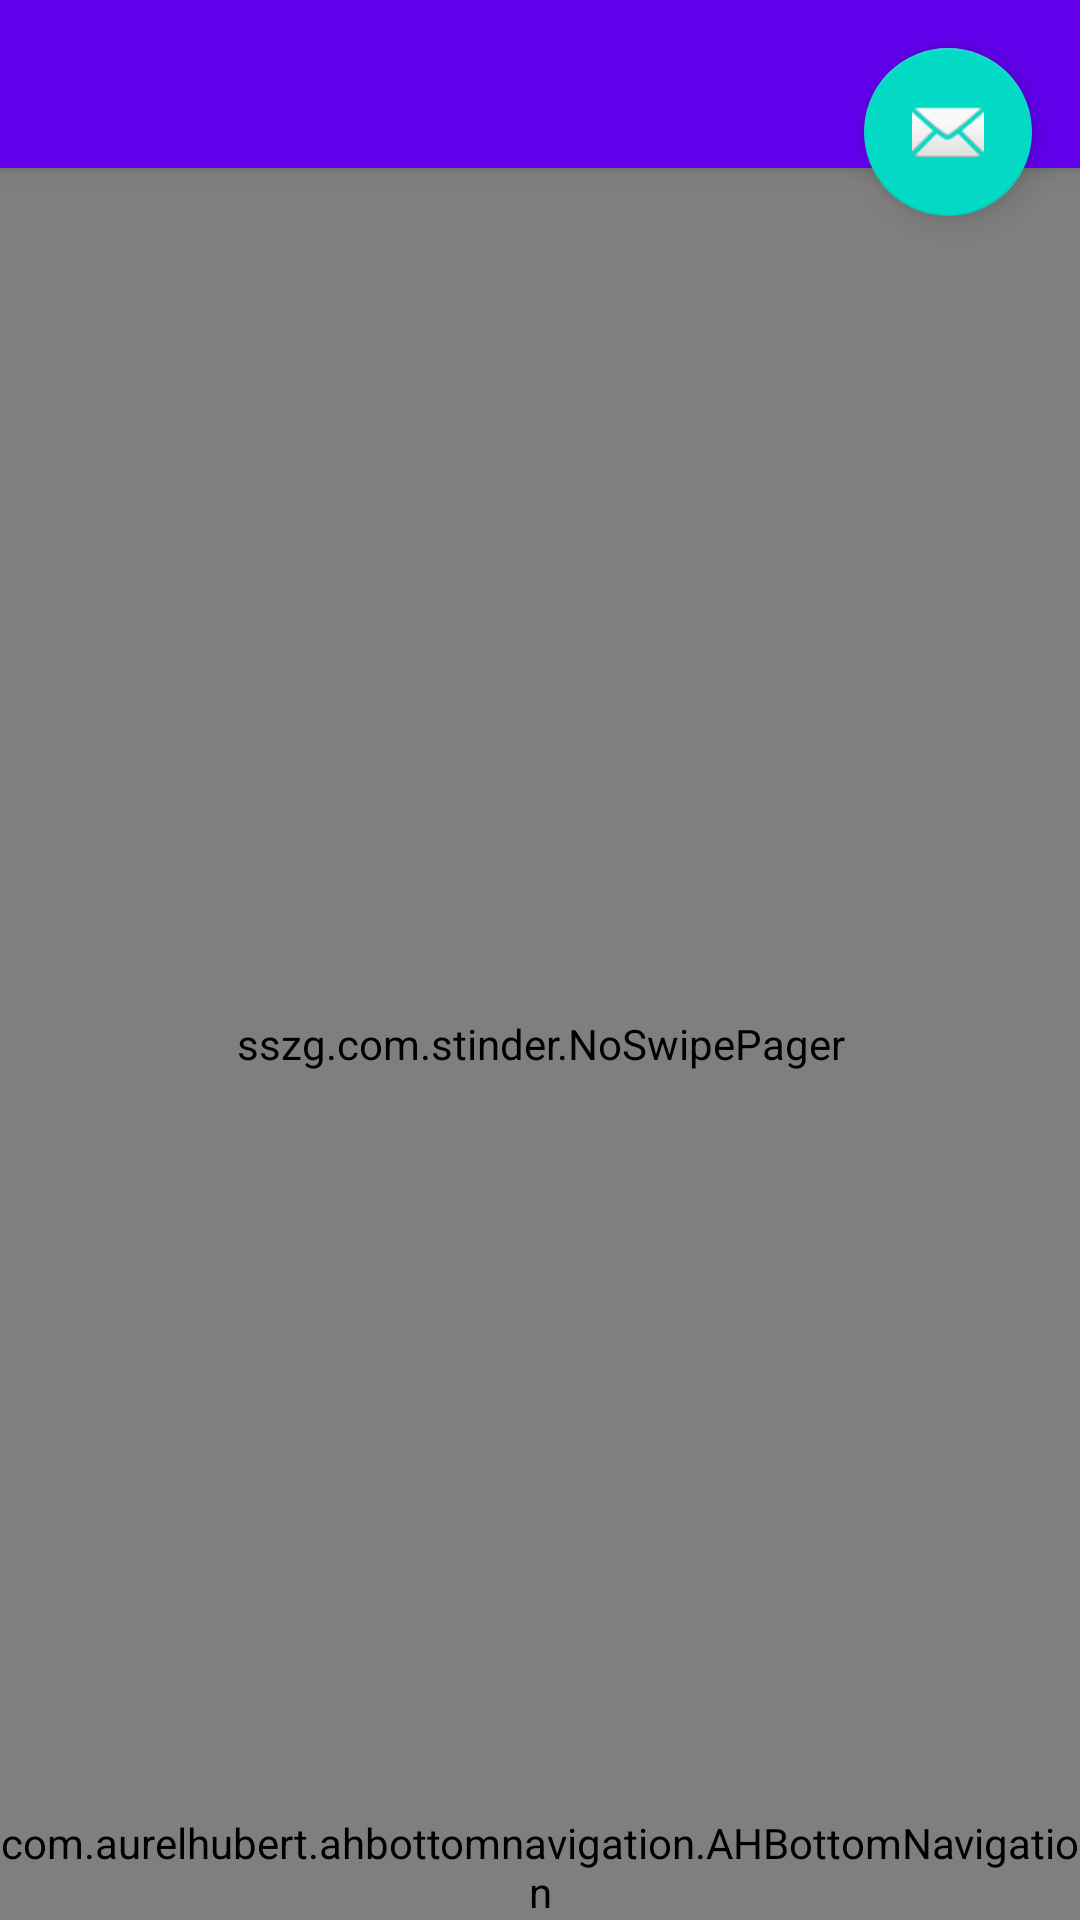

Screen size 1080px×1920px. Icon name, then its center in pixels as [x,y]:
email: [948,132]
